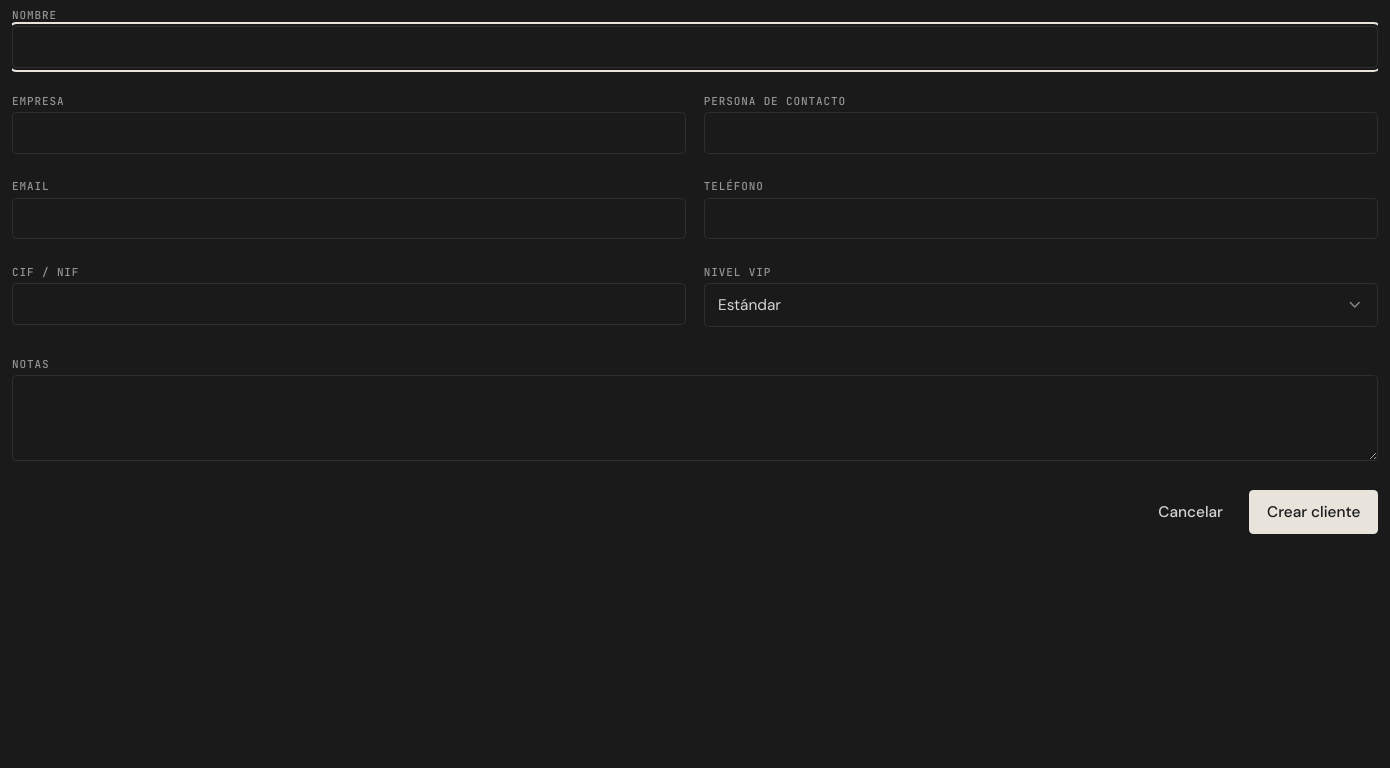
commercial components backend error disclosure › no renderiza detalles internos al fallar la creacion de cliente
The image size is (1390, 768).
Type "Cliente Demo" into the field labelled "Nombre" at [695, 47], box left=12, top=26, right=1378, bottom=68
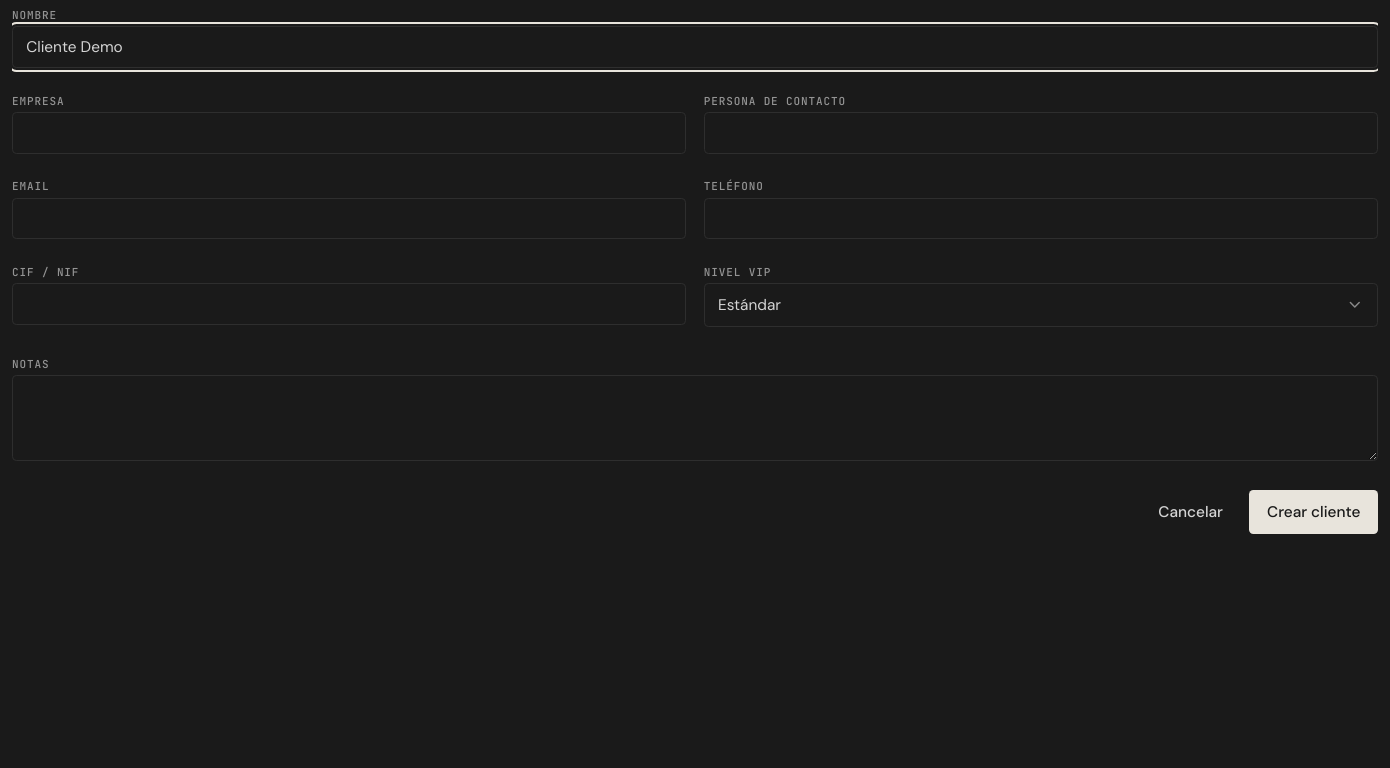
Click the button "Crear cliente" at [1314, 512], box left=1249, top=490, right=1378, bottom=534
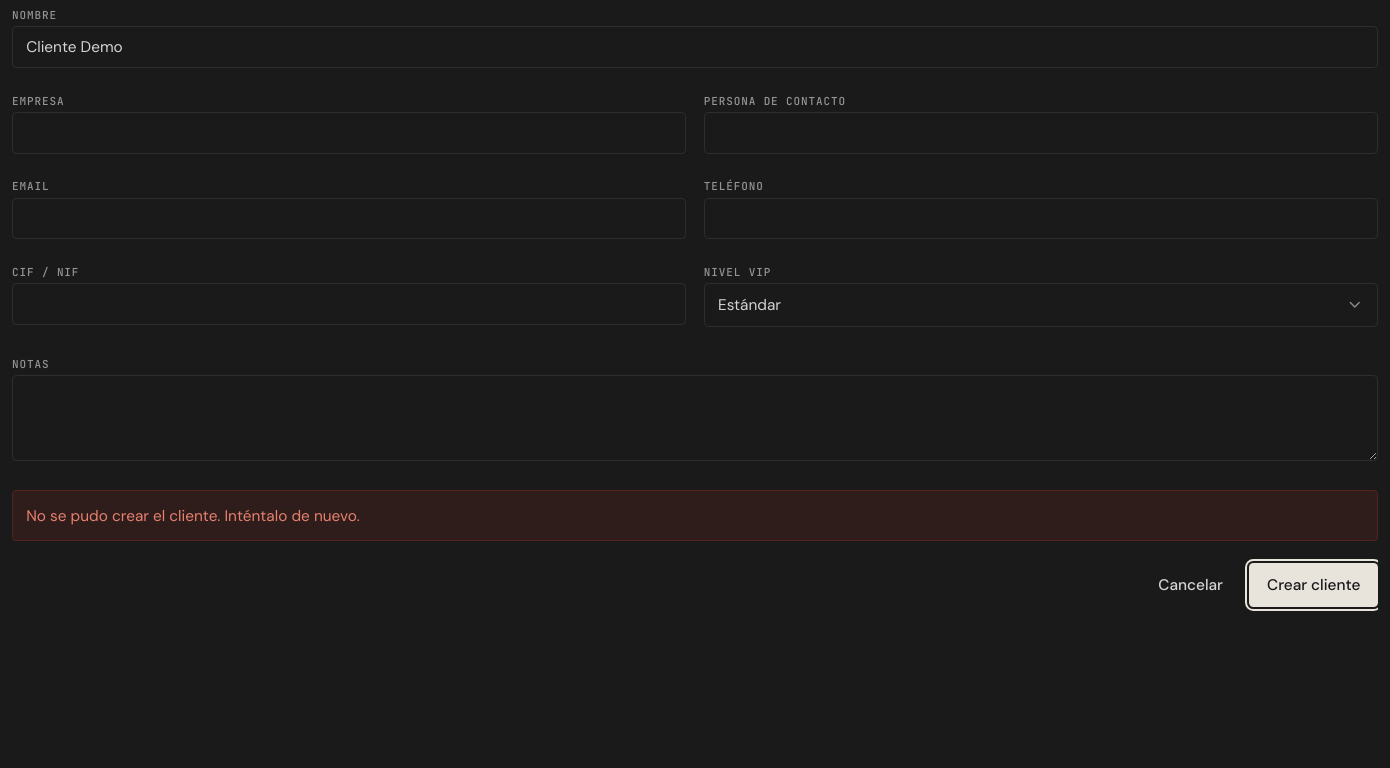
Now the text "No se pudo crear el cliente. Inténtalo de nuevo." is shown, box left=12, top=490, right=1378, bottom=541
